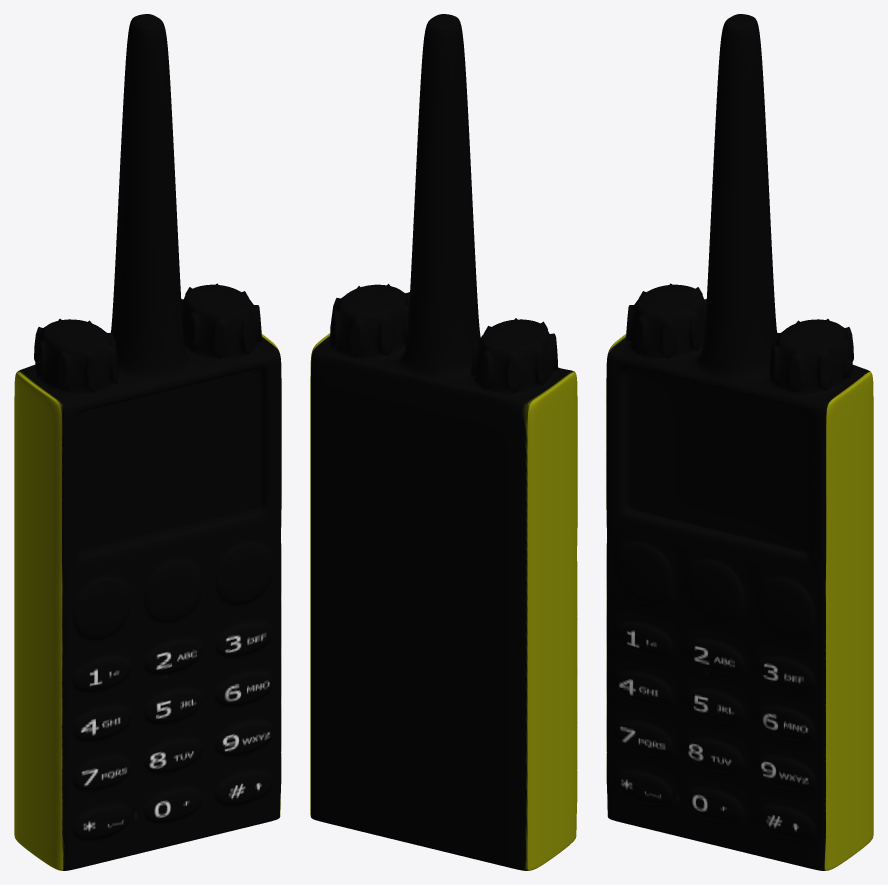
Rendered from walkie_red.fbx.
3 renders of one model, left to right at view 1: azimuth 30°, elevation 25°; view 2: azimuth 150°, elevation 25°; view 3: azimuth 330°, elevation 25°, orthographic.
Parts seen in each view (by area): view 1: walkie_talkie; view 2: walkie_talkie; view 3: walkie_talkie.
Boxes of the visible parts, left/top/right/bottom form: walkie_talkie: left=14, top=14, right=281, bottom=870; walkie_talkie: left=310, top=14, right=577, bottom=870; walkie_talkie: left=606, top=14, right=873, bottom=870.
Bounding box in the file's own units: 60.97 × 208 × 25.01.
